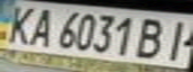0: (72, 10, 96, 53)
1: (112, 12, 139, 56)
3: (93, 11, 118, 55)
6: (51, 8, 78, 51)
A: (21, 6, 60, 48)
B: (133, 15, 175, 61)
I: (154, 17, 193, 63)
K: (0, 2, 42, 45)
